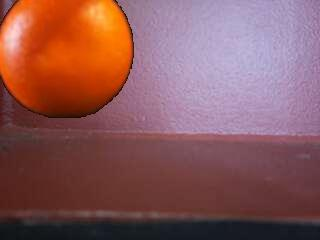Orange: (1, 2, 139, 122)
